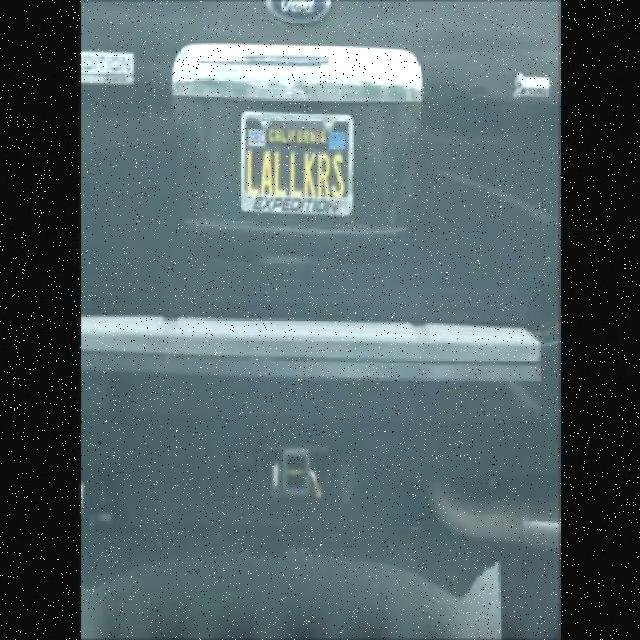licenseplate: (242, 108, 366, 212)
